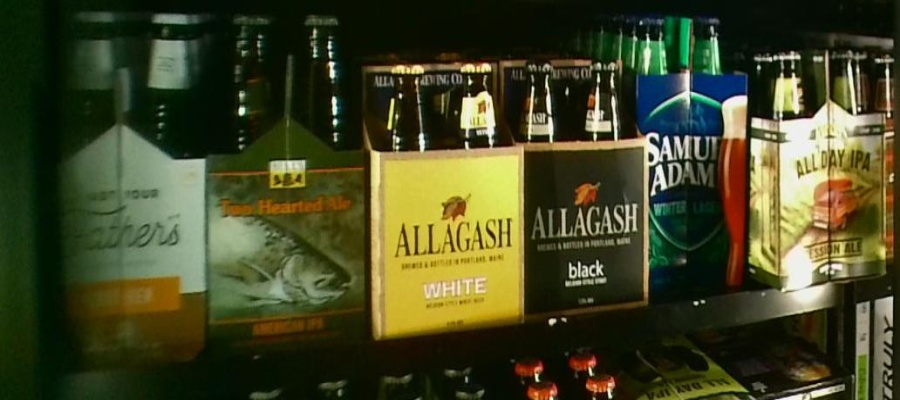bottle: (51, 7, 209, 368), (210, 13, 368, 369), (372, 42, 524, 342), (528, 51, 649, 318), (753, 50, 884, 285), (650, 11, 752, 290)
